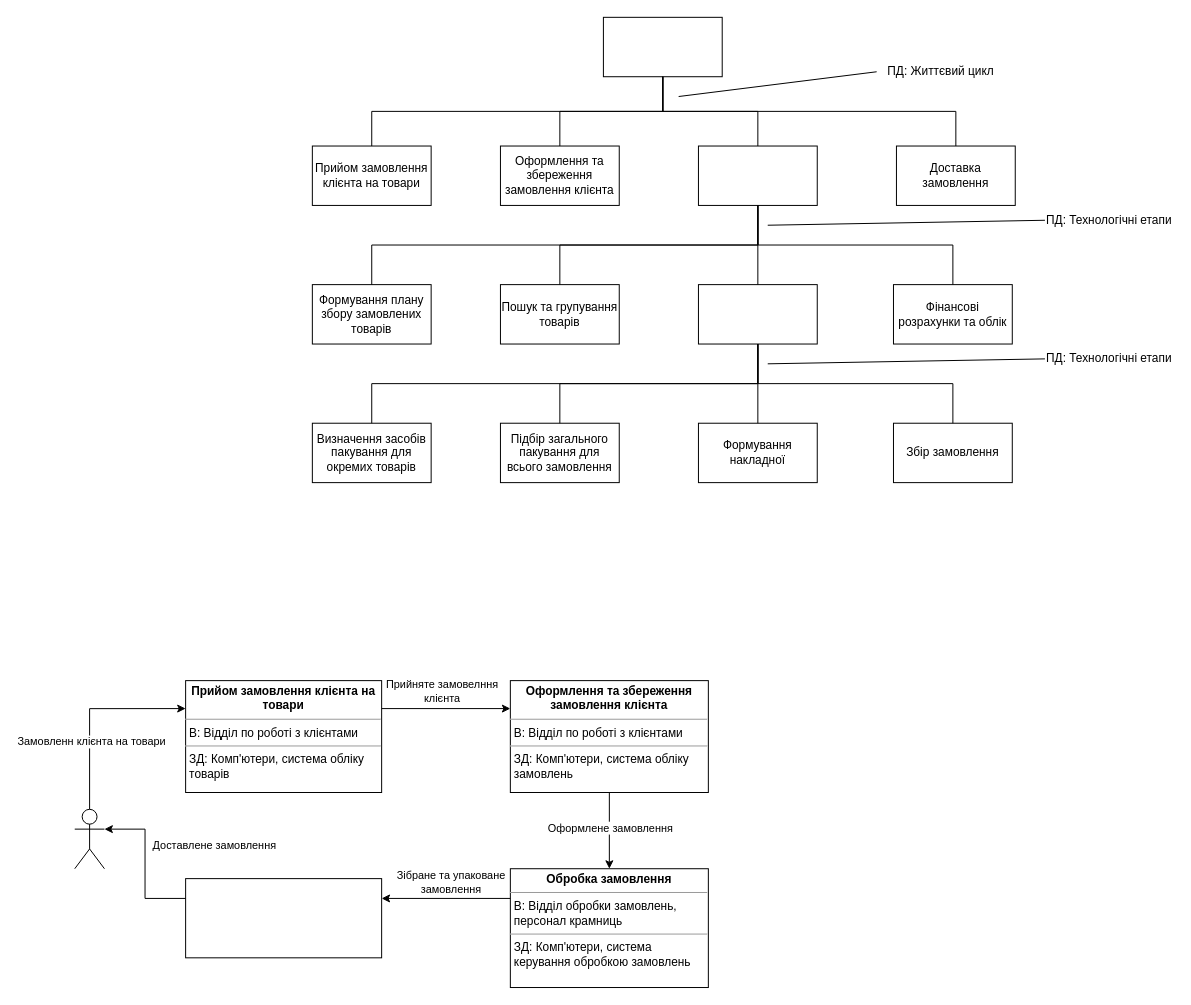
Image size: 1191x1005. Some labels were removed from this diagram. The shapes that lost their labels are listed below. From the top down, each one's centre as x and y in pixels, then its label:
(x=662, y=46): Надання послуг продажу побутової техніки
(x=757, y=175): Обробка замовлення
(x=757, y=314): Пакування замовлених товарів
(x=89, y=838): Клієнт
(x=283, y=918): Доставка замовлення В: Відділ доставки, кур'єри ЗД: Транспорт
